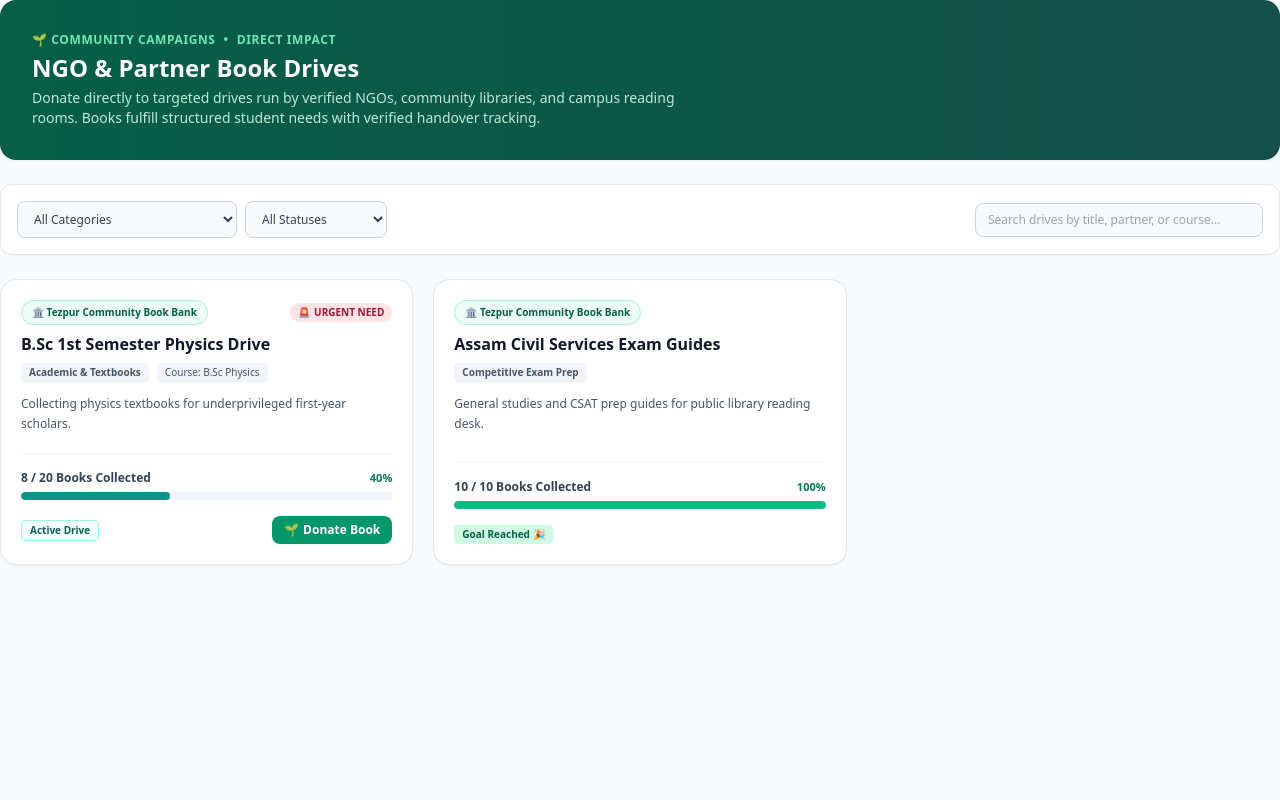
Test: CampaignNeedsView Component (CS-014 NGO Book Needs) › filters needs by category and status
// Filter by COMPETITIVE_EXAM
Select "Competitive Exam Prep" in the dropdown with test id "filter-category": (127, 220) [17,201,237,238]
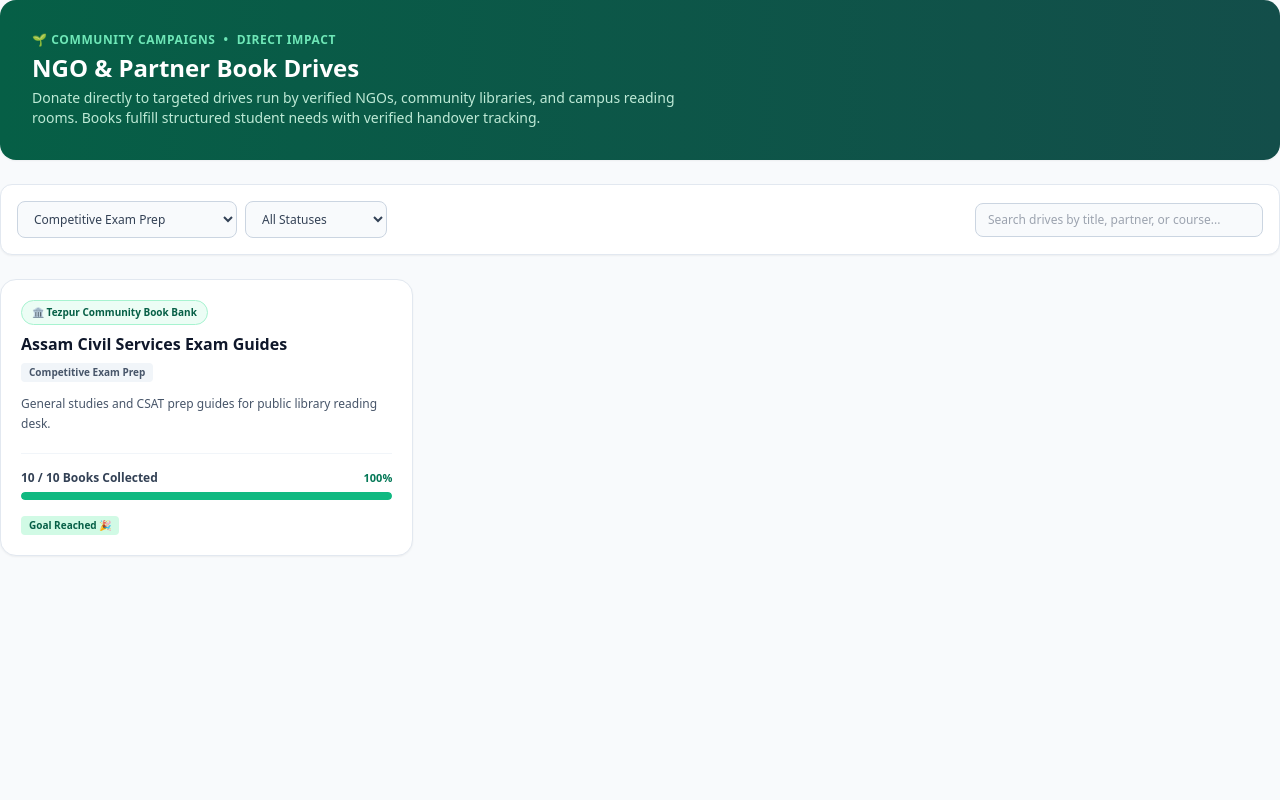
Check: the heading "Assam Civil Services Exam Guides" is shown, box [21,333,287,355]
Check: the heading "B.Sc 1st Semester Physics Drive" is gone
// Reset category, filter by ACTIVE status
Select "All Categories" in the dropdown with test id "filter-category": (127, 220) [17,201,237,238]
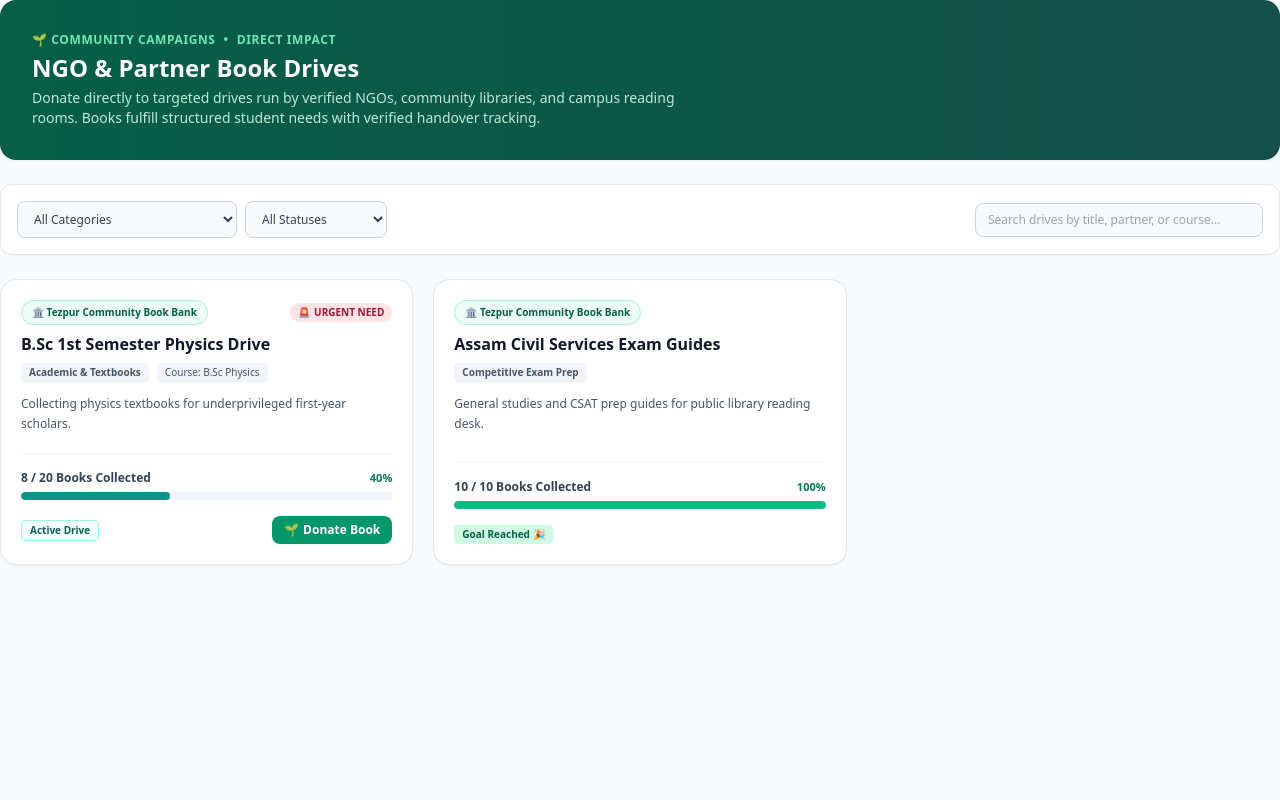
Select "Active Drives" in the dropdown with test id "filter-status": (316, 220) [245,201,387,238]
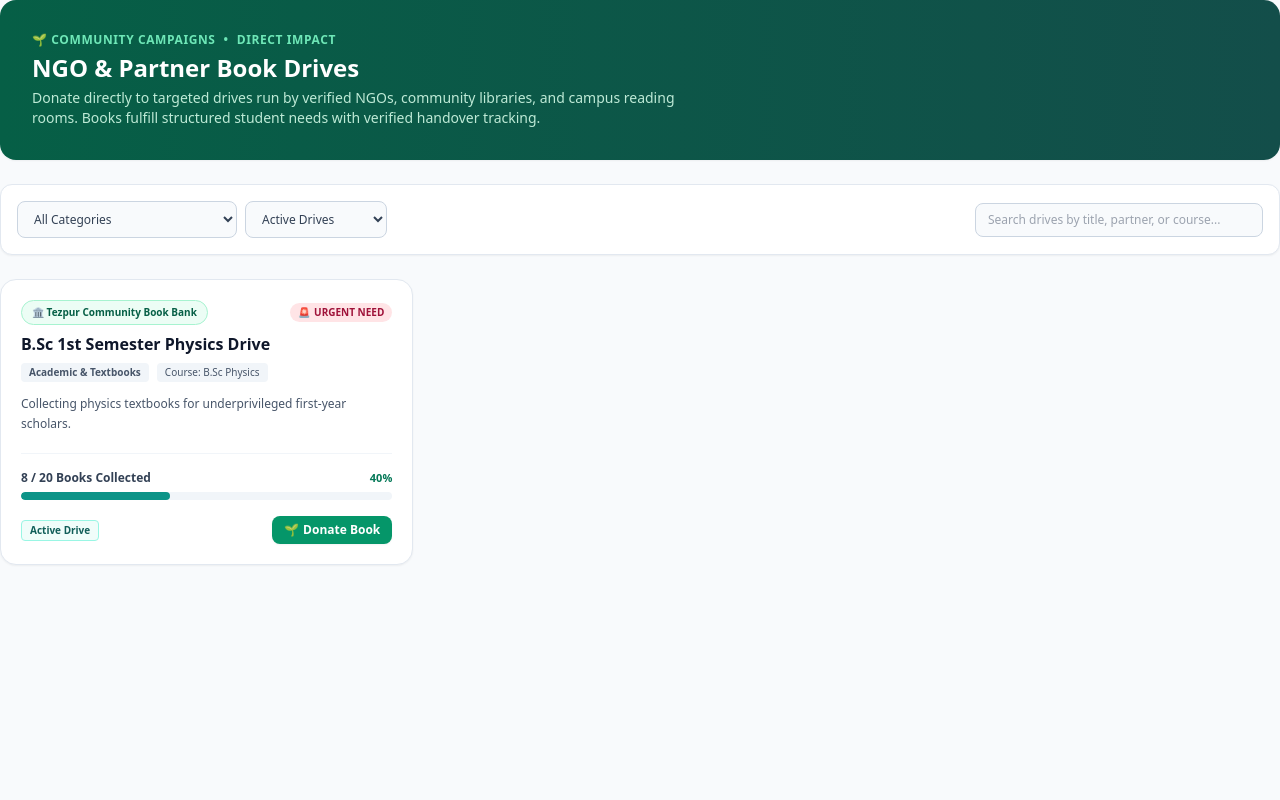
Check: the heading "B.Sc 1st Semester Physics Drive" is shown, box [21,333,270,355]
Check: the heading "Assam Civil Services Exam Guides" is gone
